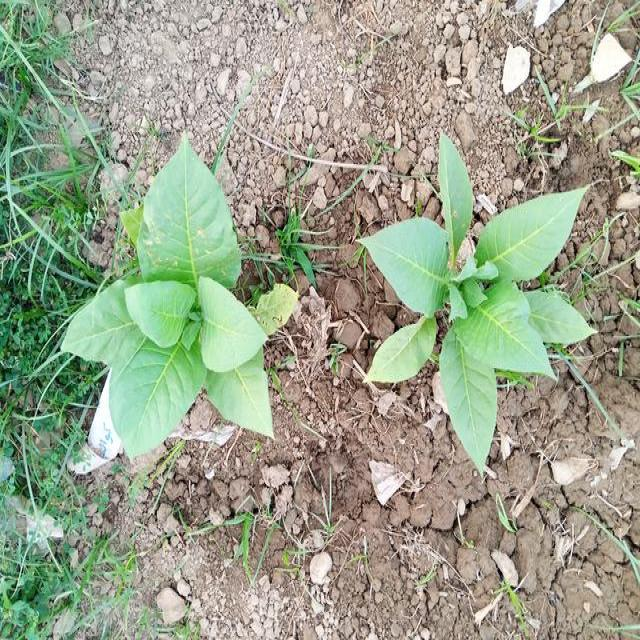crop: (358, 127, 595, 473), (57, 138, 283, 462)
